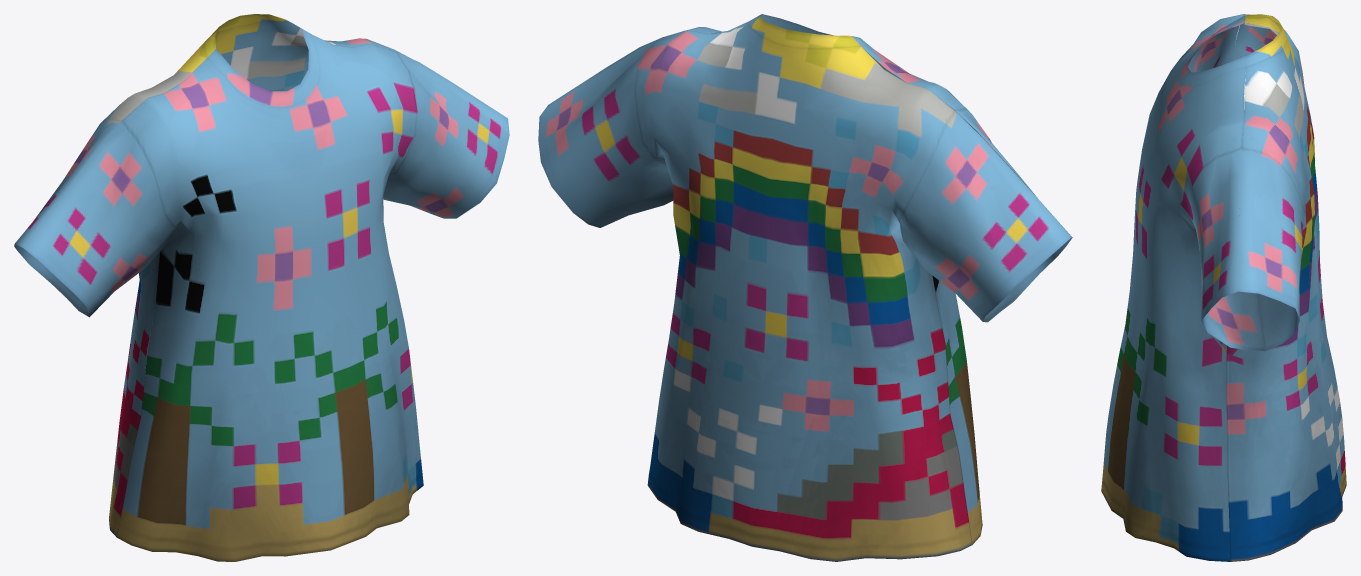
The model's file is 37_tshirt_a.glb.
3 views of the same model, side by side, from view 1: azimuth 30°, elevation 25°; view 2: azimuth 150°, elevation 25°; view 3: azimuth 270°, elevation 25° (orthographic). The views are drawn at different scales.
Visible parts, largest first — view 1: tshirt_apose; view 2: tshirt_apose; view 3: tshirt_apose.
Boxes of the visible parts, x1,y1,x2,y2 form: tshirt_apose: (14,14,509,561); tshirt_apose: (538,14,1072,561); tshirt_apose: (1101,14,1346,561).
Bounding box in the file's own units: 0.7679 × 0.704 × 0.3368.
Materials: 1 (1 with a texture image).
